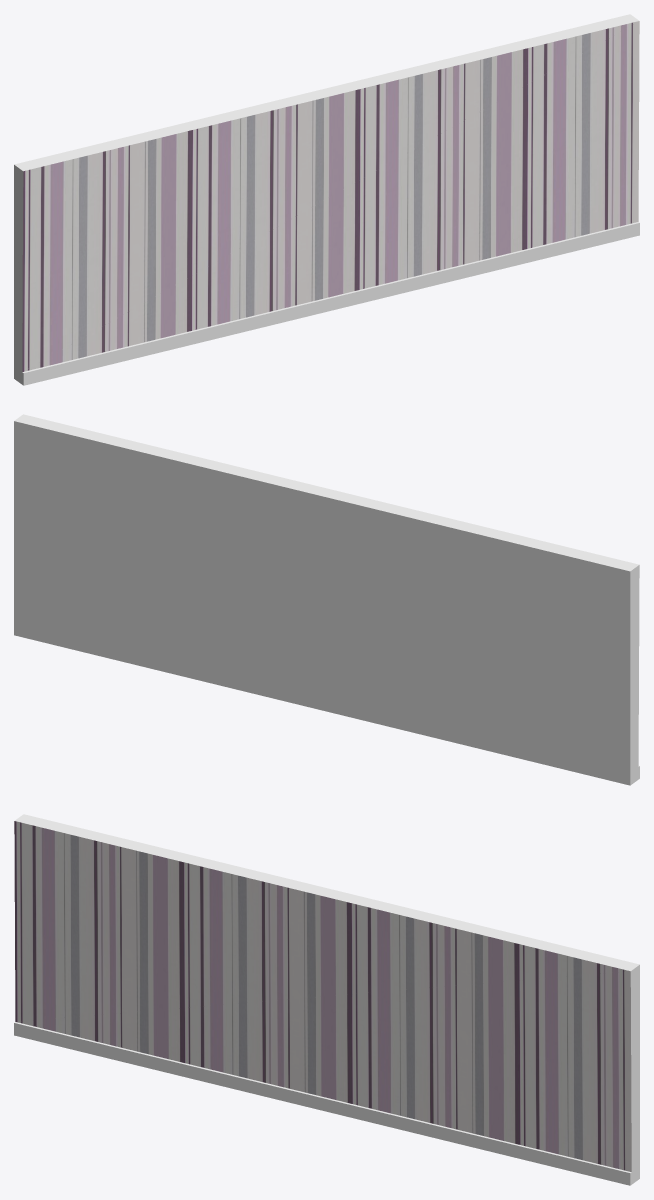
File: Wall4.FBX
The picture shows the model from 3 angles, top to bottom: view 1: azimuth 30°, elevation 25°; view 2: azimuth 150°, elevation 25°; view 3: azimuth 330°, elevation 25°; orthographic projection.
Visible parts, largest first — view 1: Wall 4; view 2: Wall 4; view 3: Wall 4.
Part boxes in pixels (x1,y1,x2,y2): Wall 4: (14,14,639,385); Wall 4: (14,414,639,785); Wall 4: (14,814,639,1185).
Bounding box in the file's own units: 9230 × 251 × 3066.
3 materials, 1 textured.
